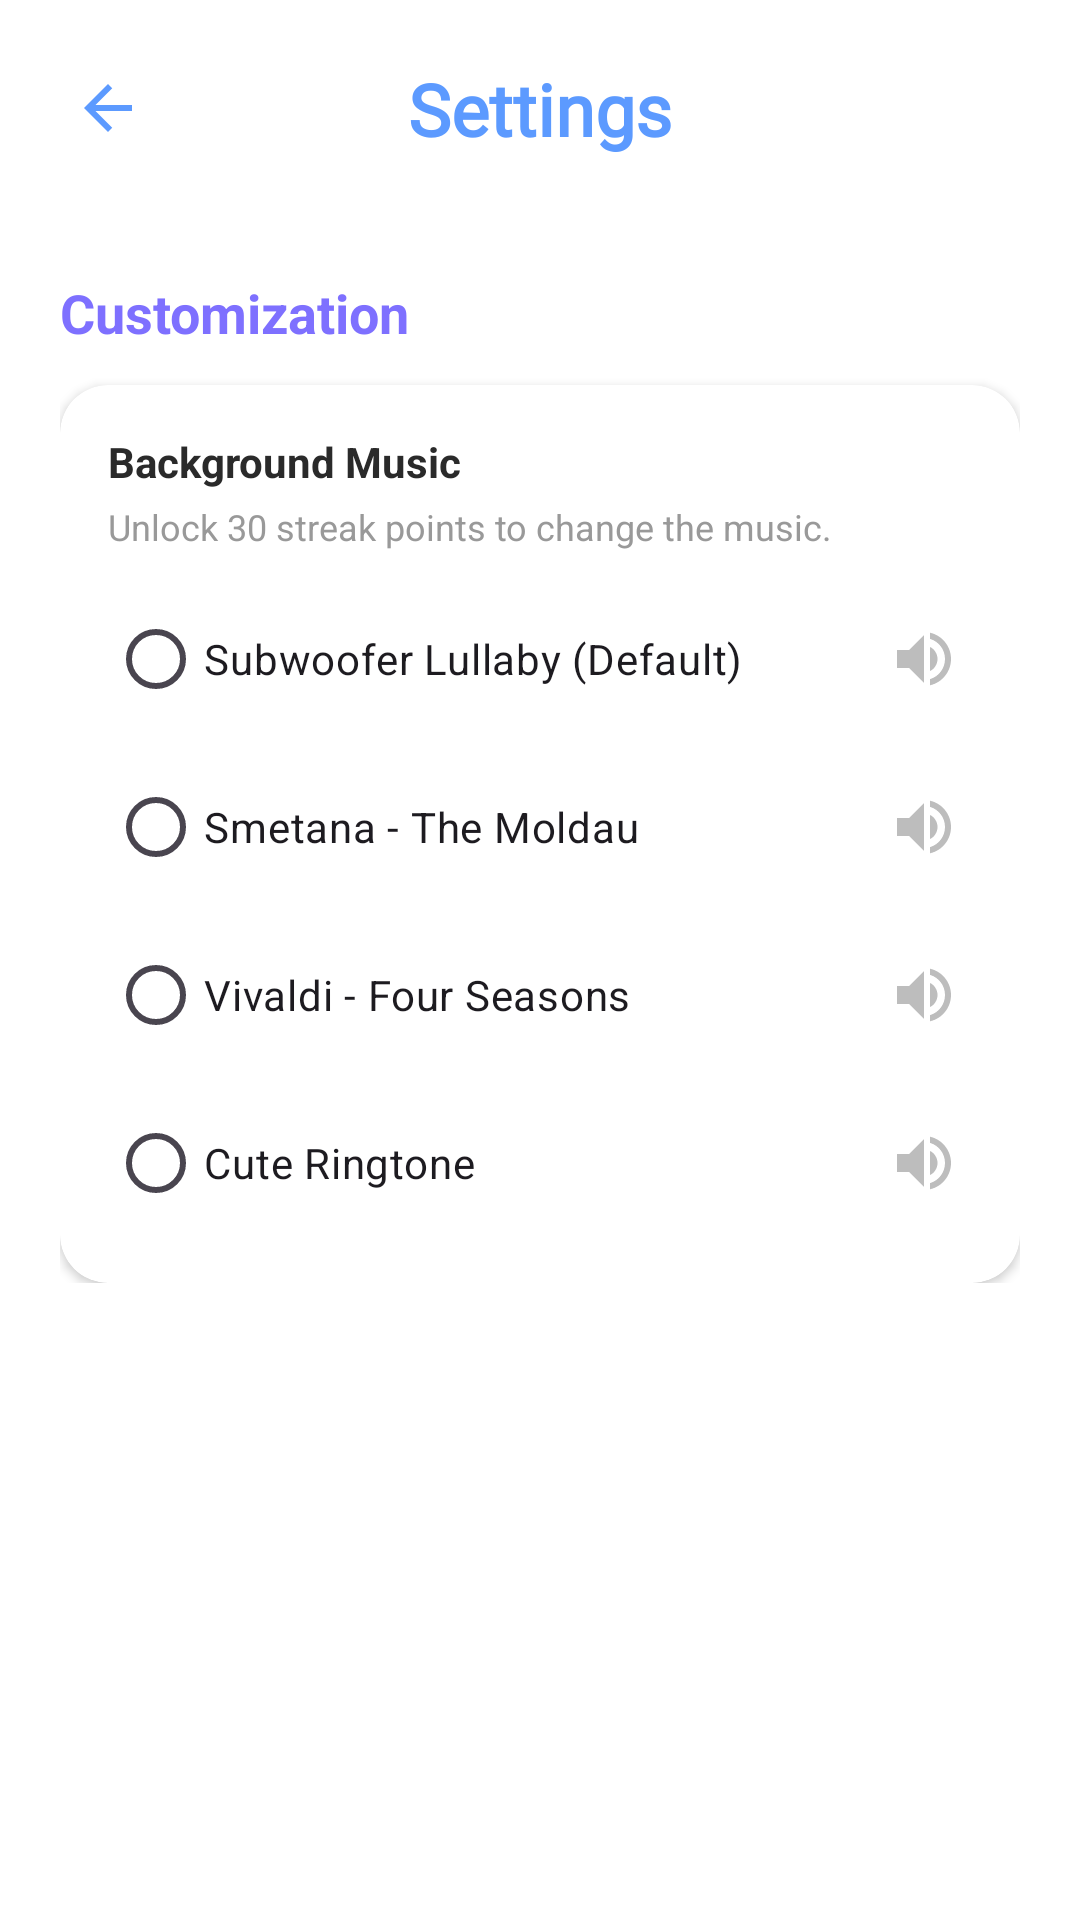

Named icons in this screenshot (1080×1920) and their bounding boxes, rect(x1, y1, x2, y2):
arrow back: rect(84, 84, 132, 132)
volume up: rect(897, 633, 951, 685), rect(897, 801, 951, 853), rect(897, 969, 951, 1021), rect(897, 1137, 951, 1189)
